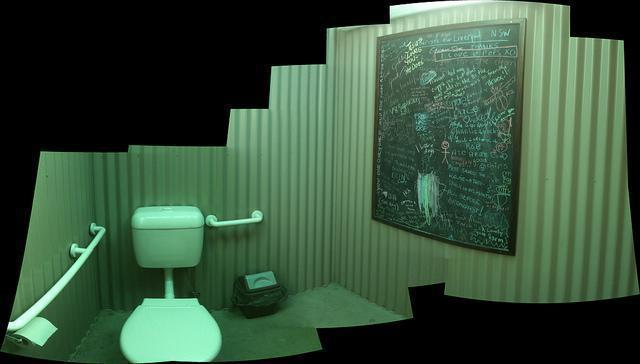Bote de Basura: (232, 267, 289, 324)
Sanitario: (117, 201, 227, 361)
